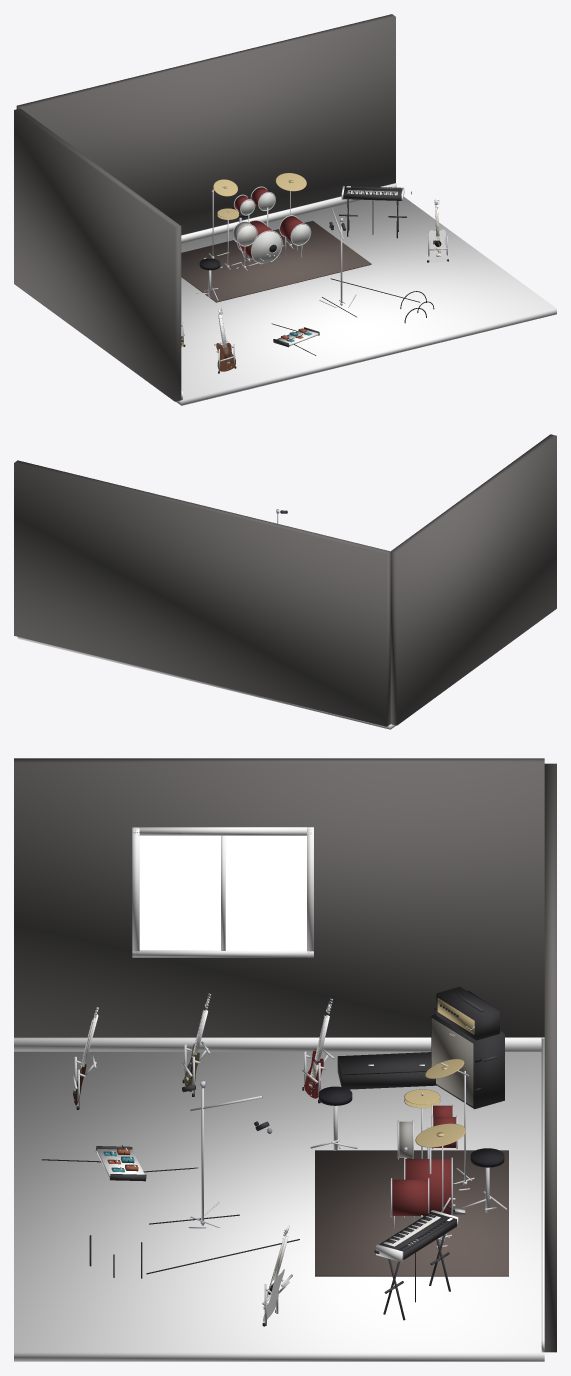
File: band_room.glb
3 views of the same model, one above another, from view 1: azimuth 30°, elevation 25°; view 2: azimuth 150°, elevation 25°; view 3: azimuth 270°, elevation 25° (orthographic). The views are drawn at different scales.
Visible parts, largest first — view 1: BackWall, Floor, LeftWall, Rug, SkirtingBack, Drums_Kick_Head-1, Keys_Chassis, Acoustic_Body; view 2: BackWall, LeftWall, Floor; view 3: Floor, LeftWall, WindowGlass, Rug, BackWall, SkirtingLeft, Amp_Cab, Amp_Grill, GuitarCaseLid, Amp_Head, Drums_Kick_Shell, WindowFrameTop (+8 smaller).
Boxes of the visible parts, left/top/right/bottom form: BackWall: left=16, top=14, right=395, bottom=235; Floor: left=176, top=197, right=556, bottom=405; LeftWall: left=14, top=108, right=181, bottom=401; Rug: left=181, top=221, right=371, bottom=302; SkirtingBack: left=181, top=183, right=396, bottom=243; Drums_Kick_Head-1: left=251, top=231, right=281, bottom=263; Keys_Chassis: left=343, top=186, right=402, bottom=200; Acoustic_Body: left=427, top=229, right=449, bottom=262; BackWall: left=14, top=460, right=390, bottom=726; LeftWall: left=390, top=434, right=556, bottom=725; Floor: left=17, top=637, right=395, bottom=729; Floor: left=14, top=1051, right=544, bottom=1361; LeftWall: left=14, top=758, right=544, bottom=1037; WindowGlass: left=139, top=835, right=306, bottom=950; Rug: left=315, top=1150, right=508, bottom=1276; BackWall: left=544, top=763, right=556, bottom=1352; SkirtingLeft: left=14, top=1037, right=544, bottom=1051; Amp_Cab: left=431, top=1014, right=504, bottom=1109; Amp_Grill: left=431, top=1018, right=473, bottom=1106; GuitarCaseLid: left=337, top=1052, right=431, bottom=1075; Amp_Head: left=436, top=986, right=499, bottom=1040; Drums_Kick_Shell: left=405, top=1159, right=451, bottom=1214; WindowFrameTop: left=132, top=827, right=313, bottom=835.
Bounding box in the file's own units: 7.12 × 3.38 × 5.32.
